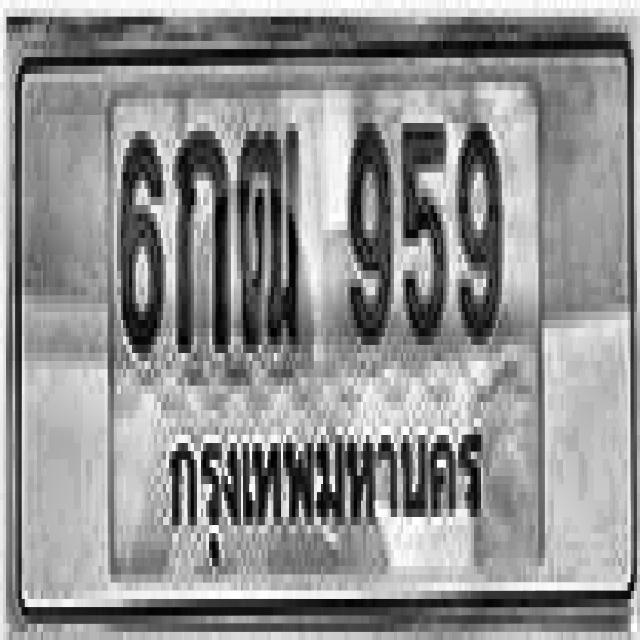license-plate: (11, 54, 636, 598)
